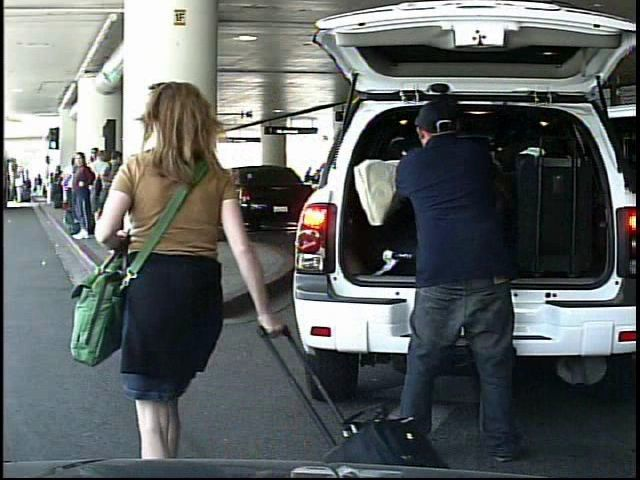person: (98, 77, 265, 458), (382, 95, 532, 461), (301, 166, 314, 197), (14, 174, 25, 204), (35, 173, 45, 200)
